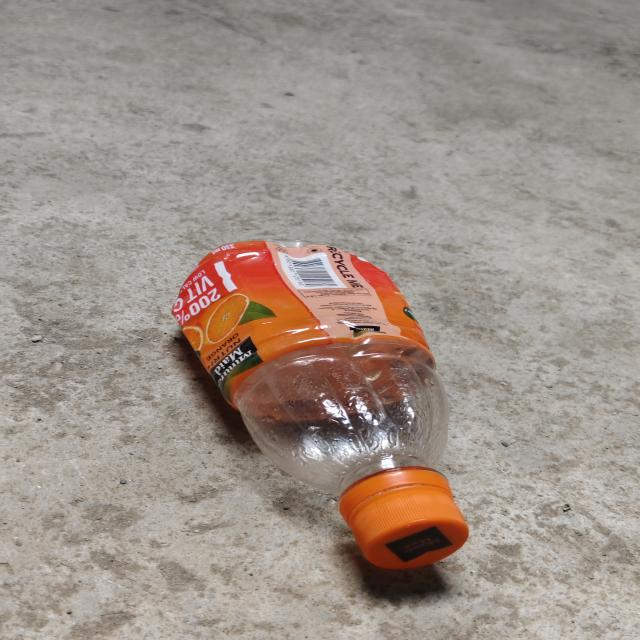Bottle: (170, 241, 471, 574)
